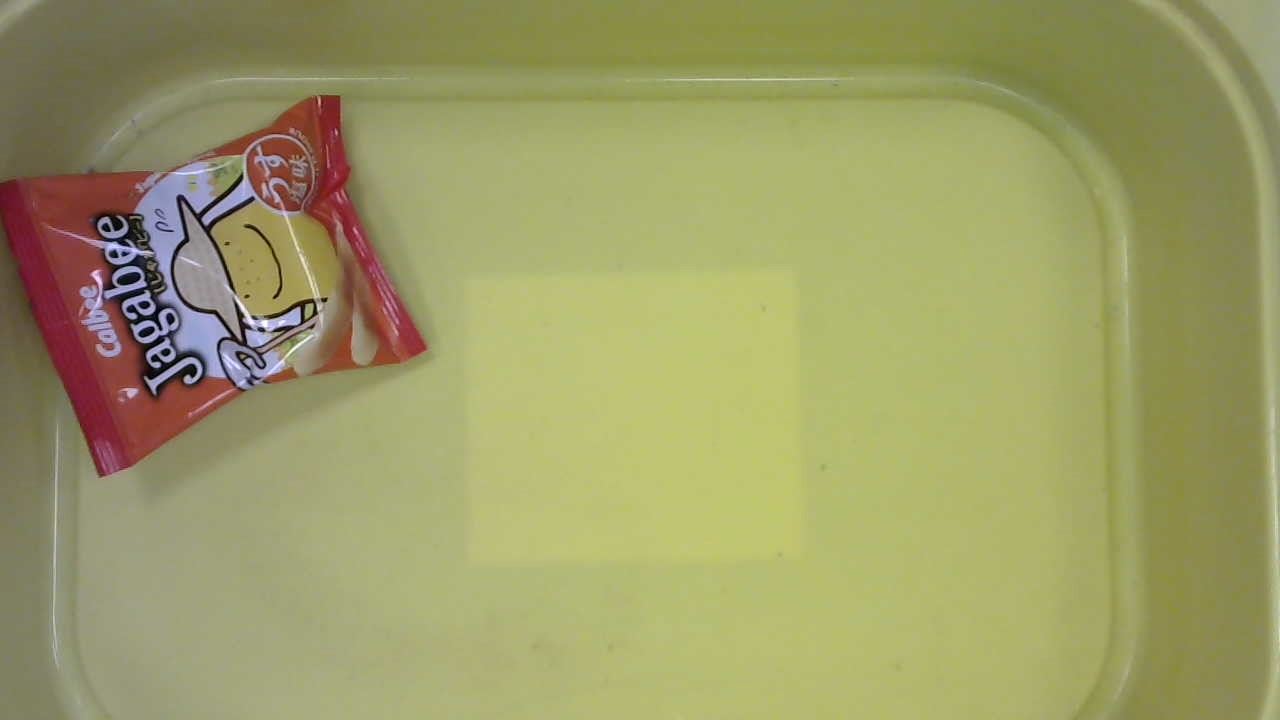JagabeeFarmer: (1, 89, 445, 484)
